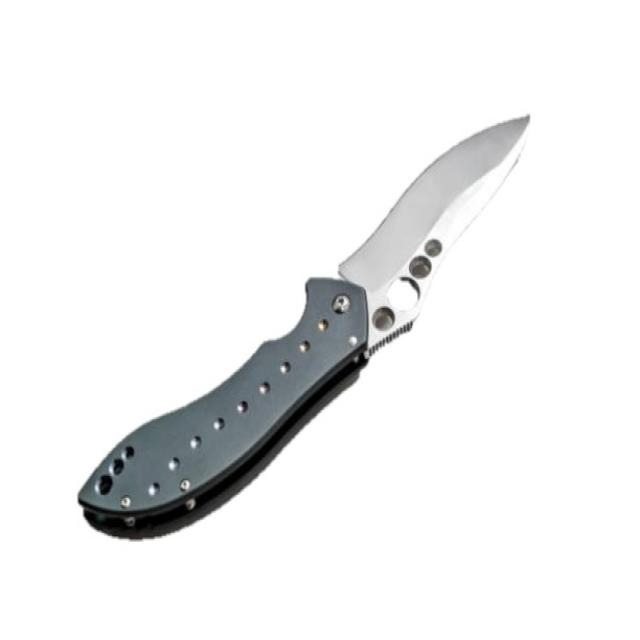knife: (78, 109, 538, 541)
